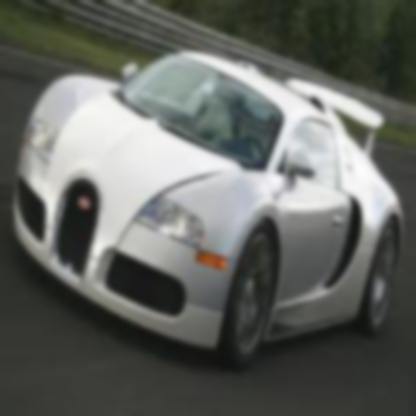Vehicle: (14, 47, 405, 371)
